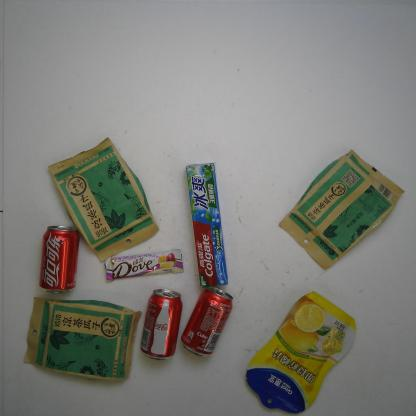Chocolate: (104, 248, 185, 281)
Dried Food: (278, 149, 406, 271), (48, 136, 160, 263), (23, 296, 143, 383)
Dried Fruit: (245, 290, 358, 414)
Drink: (180, 286, 234, 358), (37, 223, 82, 296), (140, 288, 184, 362)
Personal Hygiene: (185, 161, 230, 288)
